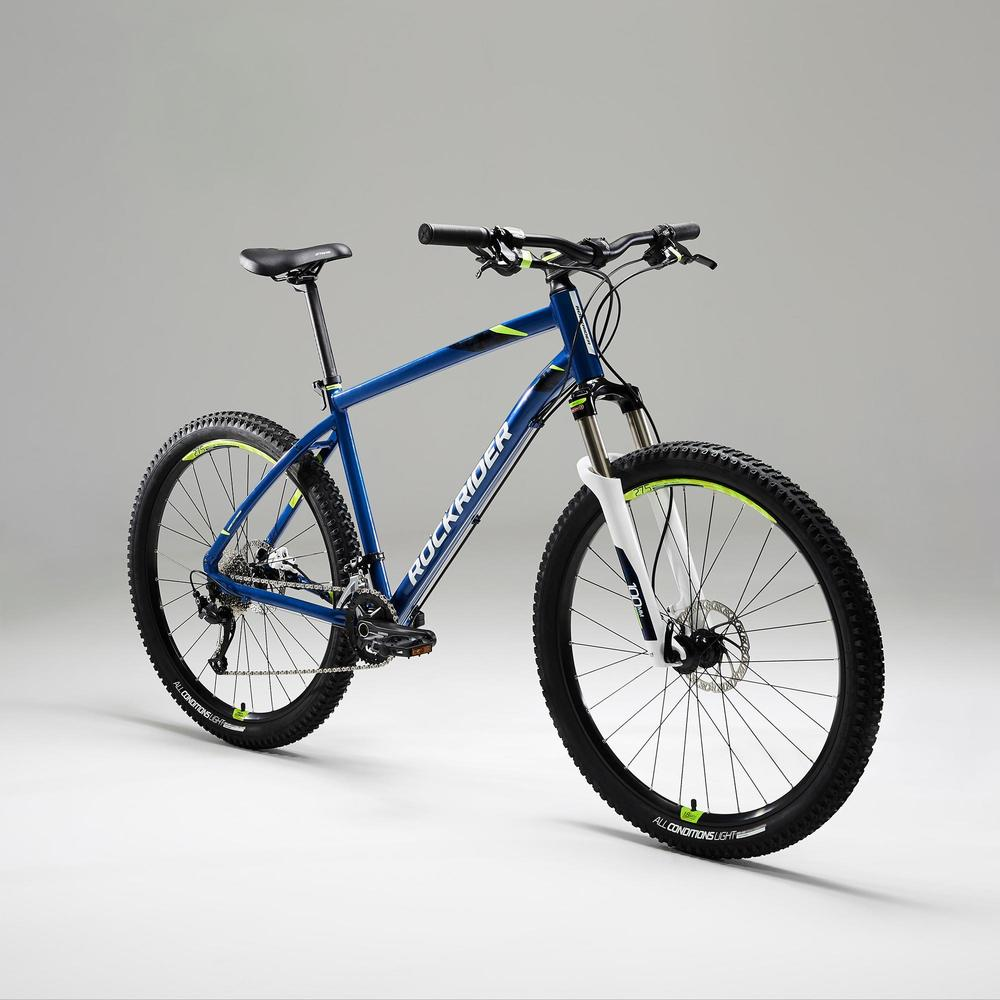MountainBike: (114, 207, 889, 847)
